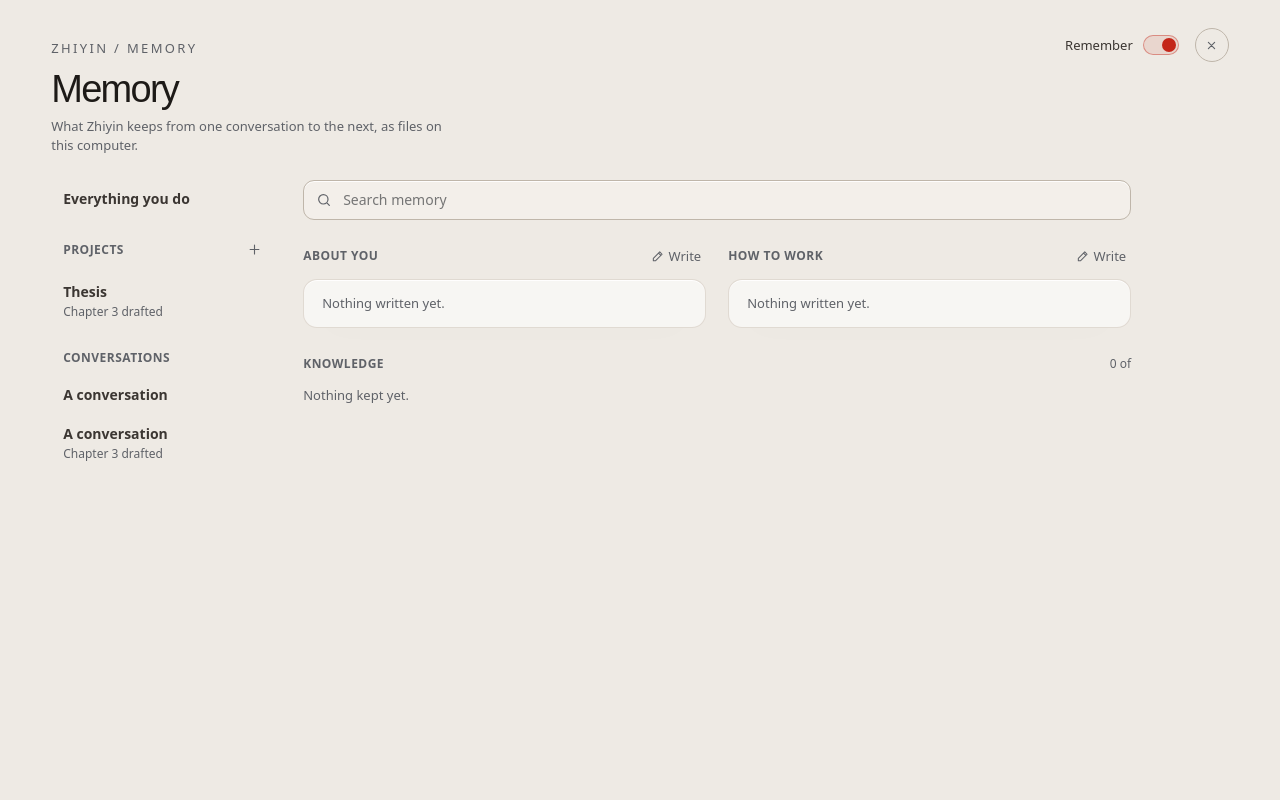
Test case: memory page › shows a project's brief, and its own knowledge only, once the project is chosen
What coordinates should you click on to do the following:
click the button "Thesis Chapter 3 drafted"
I would click on:
 (161, 301)
Its box is left=51, top=273, right=271, bottom=329.
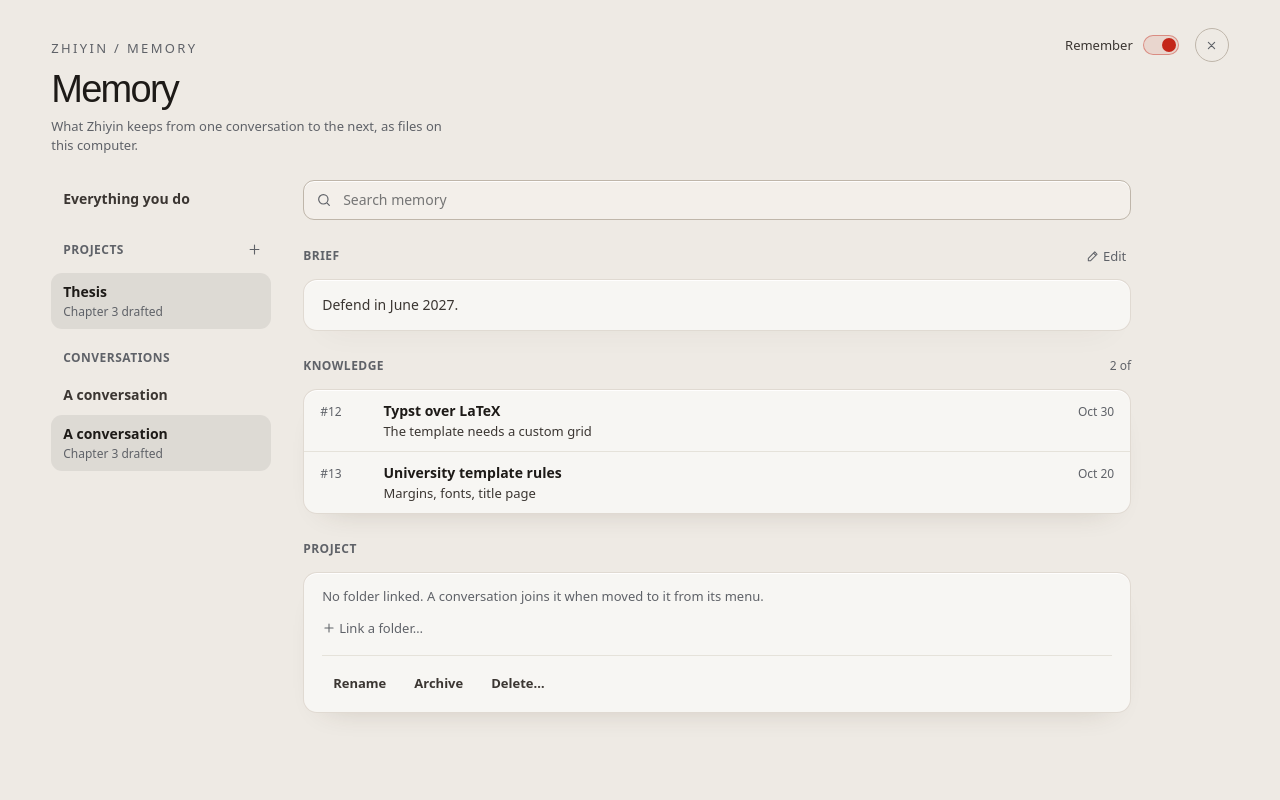
Expected: the text "Defend in June 2027." is shown, left=322, top=295, right=458, bottom=314
